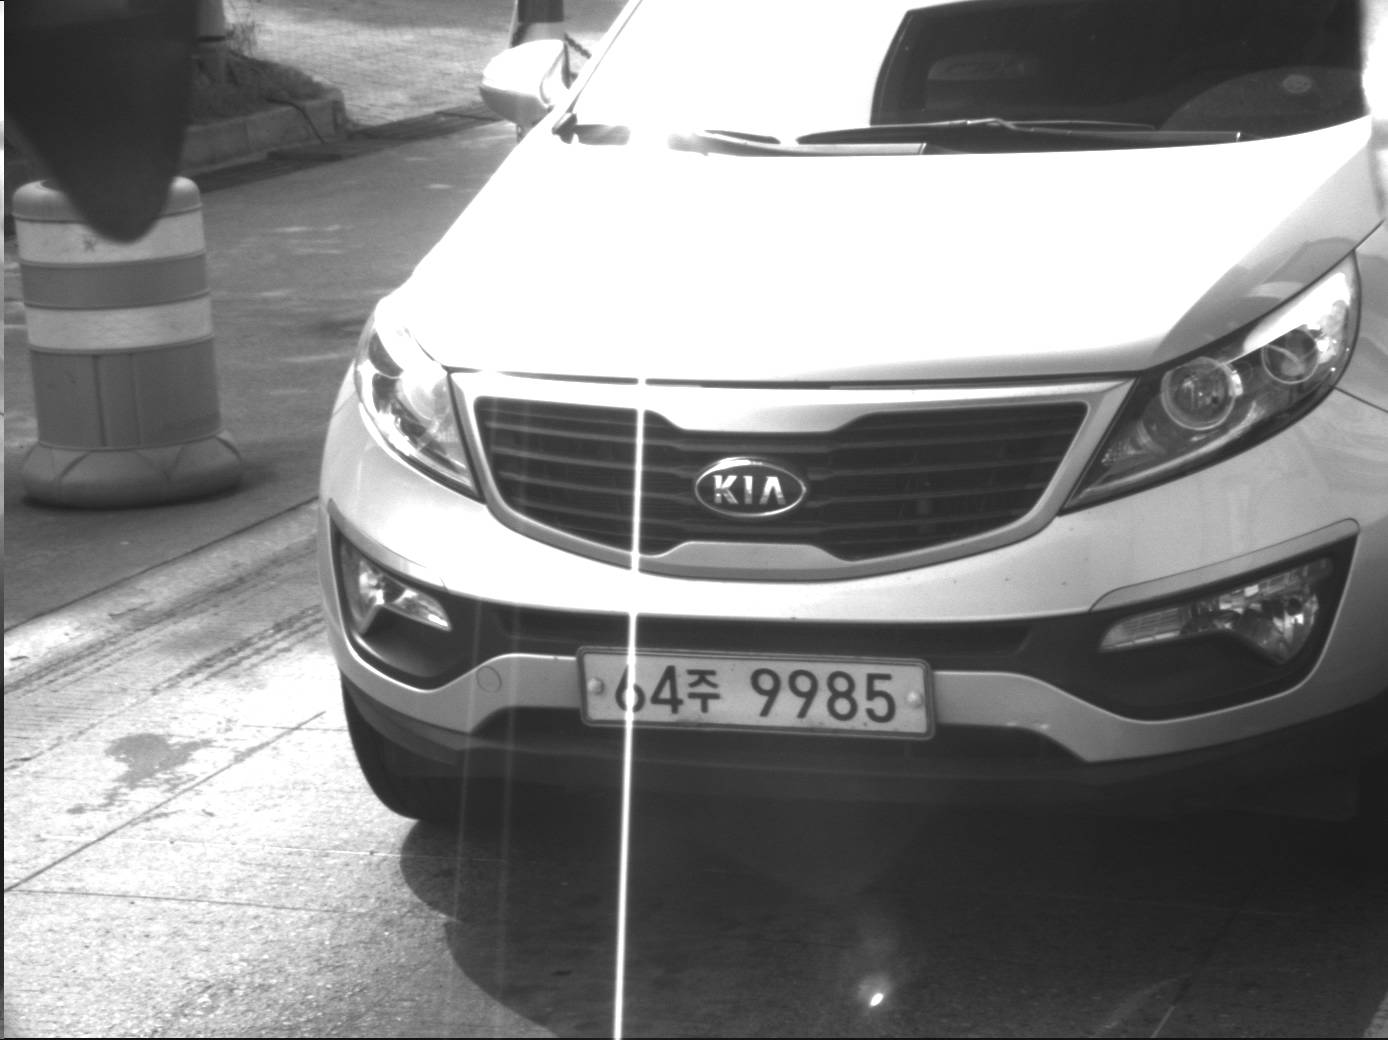car: (314, 1, 1383, 866)
plate: (574, 640, 943, 745)
